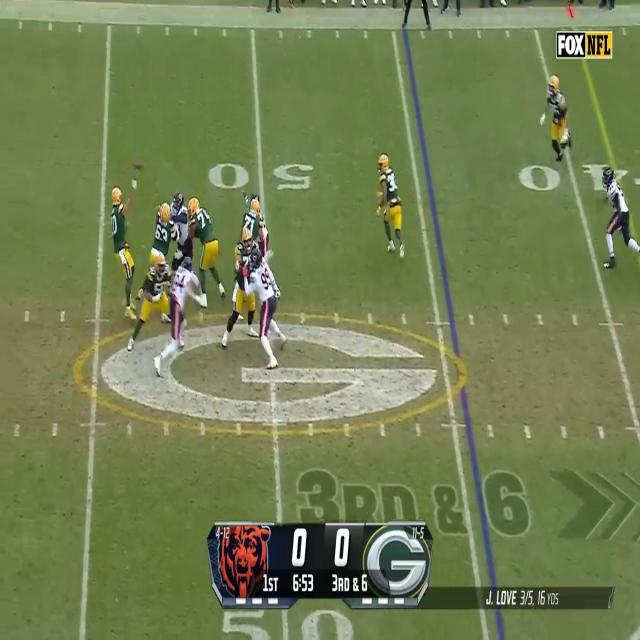Player: (111, 179, 138, 323), (250, 248, 282, 369), (227, 229, 255, 350), (601, 165, 632, 269), (188, 193, 217, 298), (538, 74, 572, 163), (376, 153, 404, 260), (139, 253, 173, 335), (168, 257, 194, 349), (168, 187, 193, 264), (239, 191, 269, 255), (148, 201, 172, 268)
